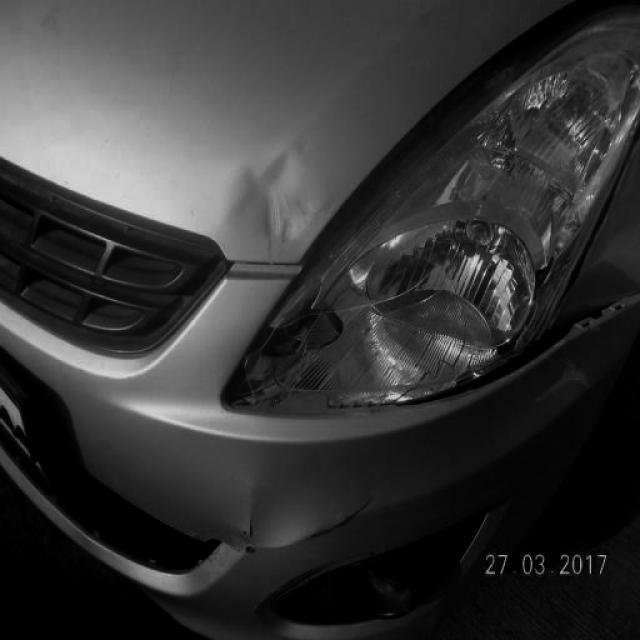car damage: (228, 209, 550, 424), (421, 222, 640, 420), (200, 459, 379, 568), (226, 136, 315, 260)
